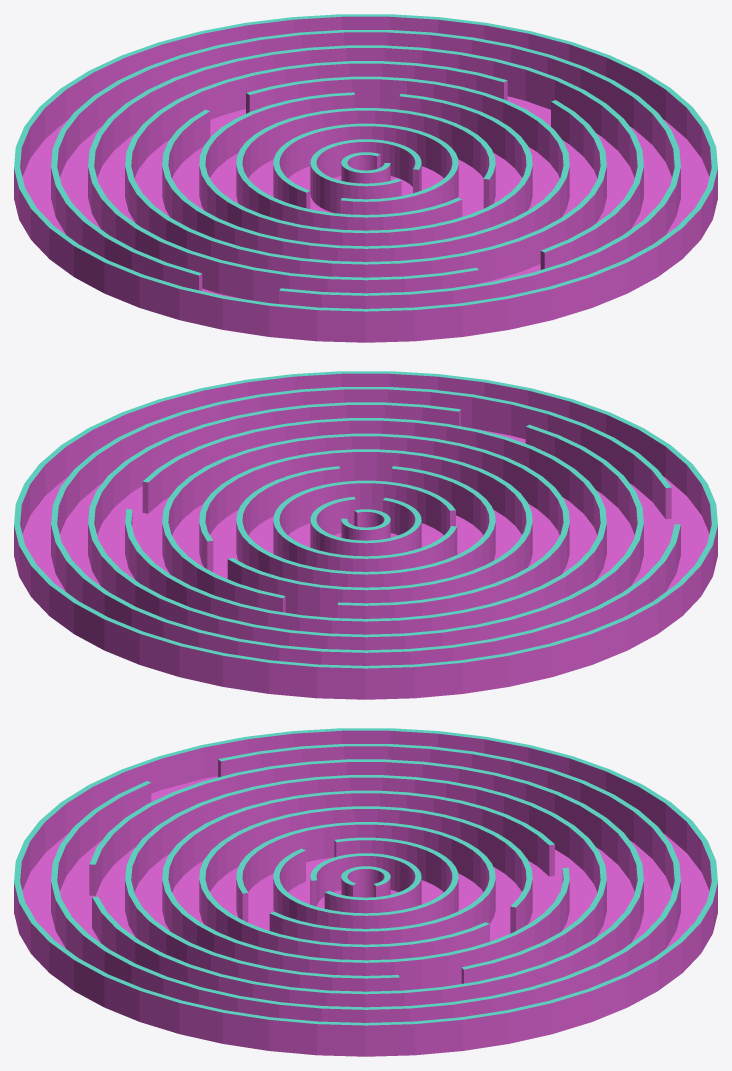
File: level8.fbx
3 renders of one model, top to bottom at view 1: azimuth 30°, elevation 25°; view 2: azimuth 150°, elevation 25°; view 3: azimuth 270°, elevation 25°, orthographic.
Visible parts, largest first — view 1: Vert; view 2: Vert; view 3: Vert.
Part boxes in pixels (left/top/right/bottom): Vert: left=14, top=14, right=717, bottom=342; Vert: left=14, top=371, right=717, bottom=699; Vert: left=14, top=728, right=717, bottom=1056.
Bounding box in the file's own units: 513 × 25.1 × 513.
